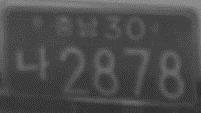0: (125, 14, 146, 40)
2: (59, 47, 89, 94)
3: (104, 14, 121, 40)
7: (124, 47, 151, 97)
8: (92, 47, 120, 95), (158, 50, 185, 99)
나: (14, 46, 50, 79)
충남_O: (54, 13, 99, 38)
